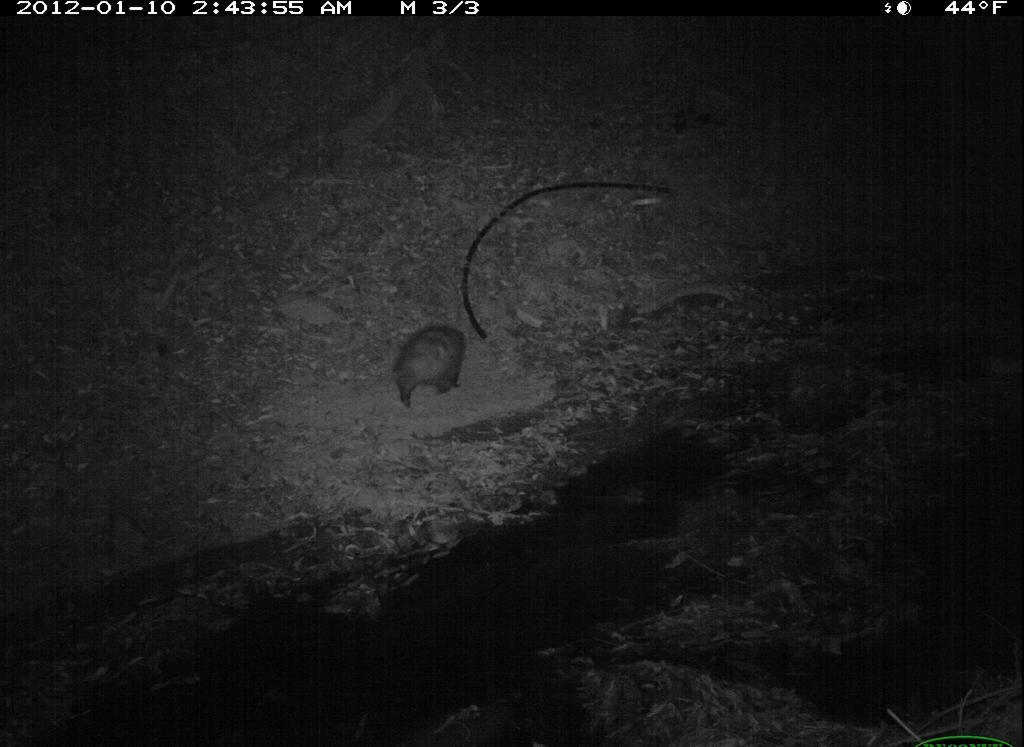opossum: (372, 308, 478, 408)
